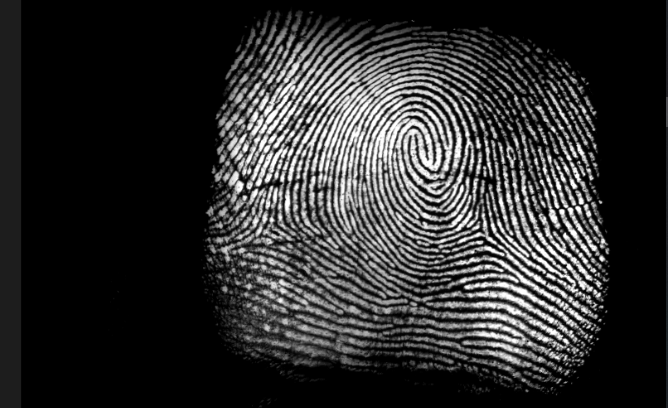deltas: (247, 194, 298, 254), (455, 199, 508, 246)
nucleo: (398, 115, 449, 174)
